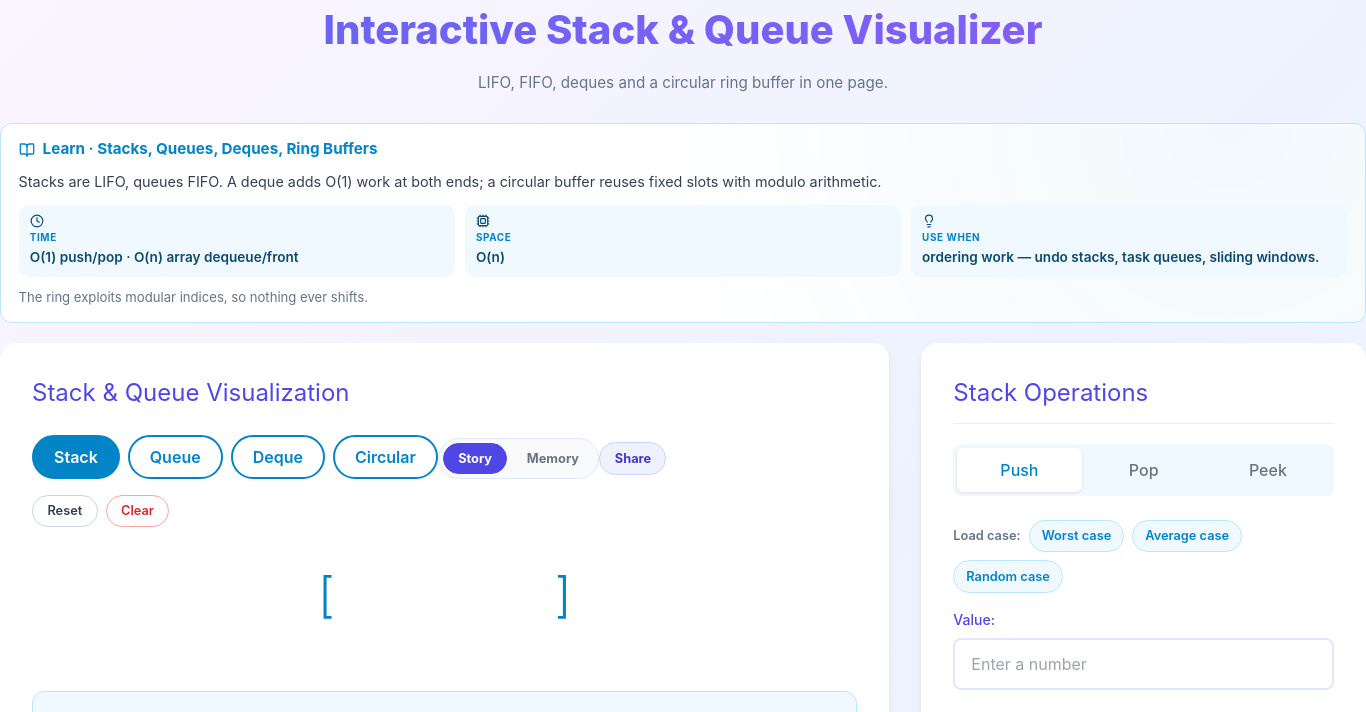
Test: stack operations › pushing appends to the top and records the run
The image size is (1366, 712).
In the number field with placeholder "Enter a number": (1144, 664) [953,638,1334,690], type "40"
(page scrolled)
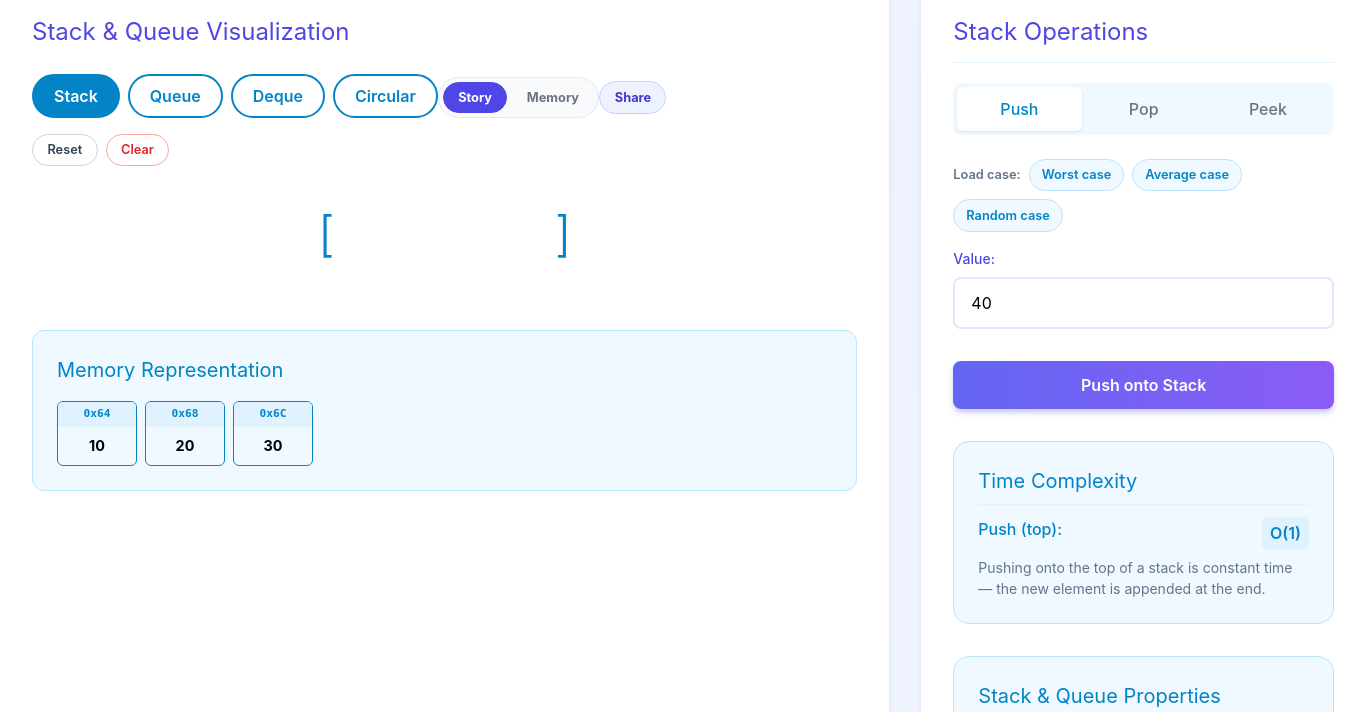
Click the button "Push onto Stack": (1144, 385) [953,361,1334,409]
Wait 30000 ms
(page scrolled)
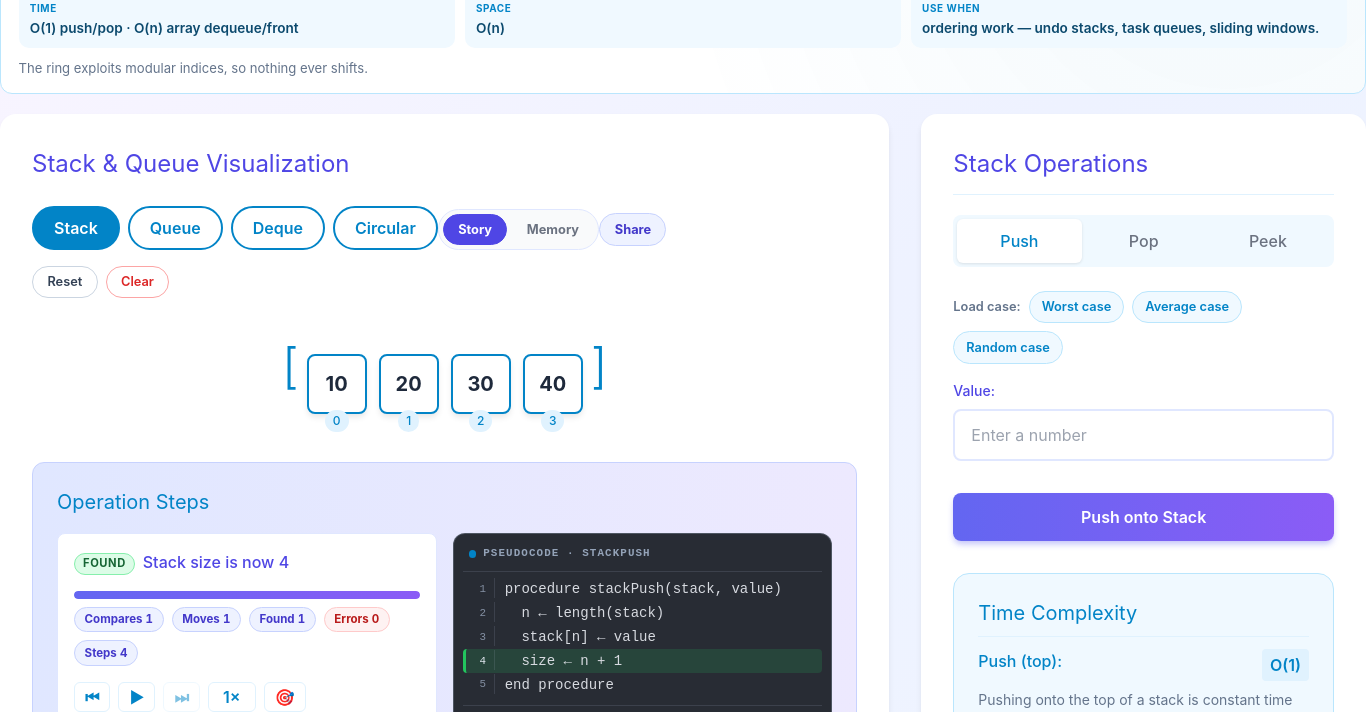
Expected: the text "40" is shown, [539,369,566,399]
